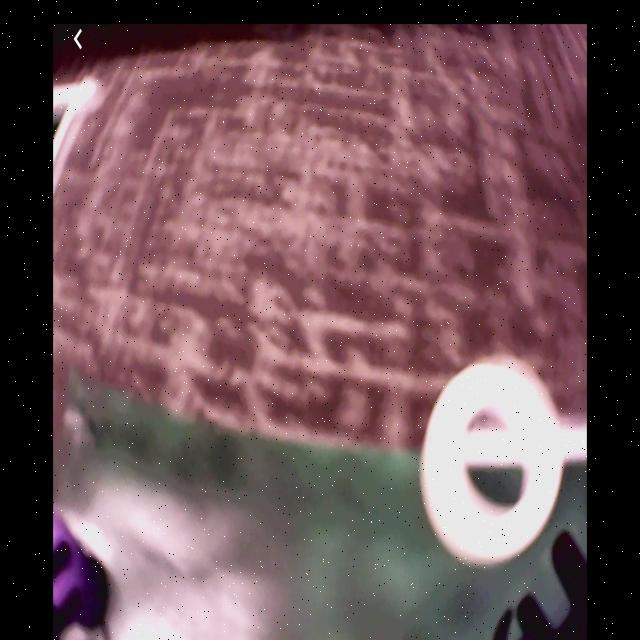ball: (54, 499, 92, 630)
